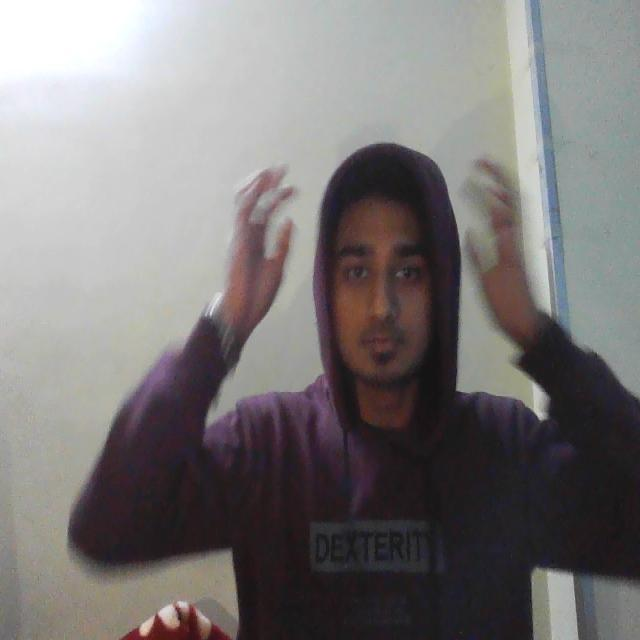real: (310, 129, 462, 416)
